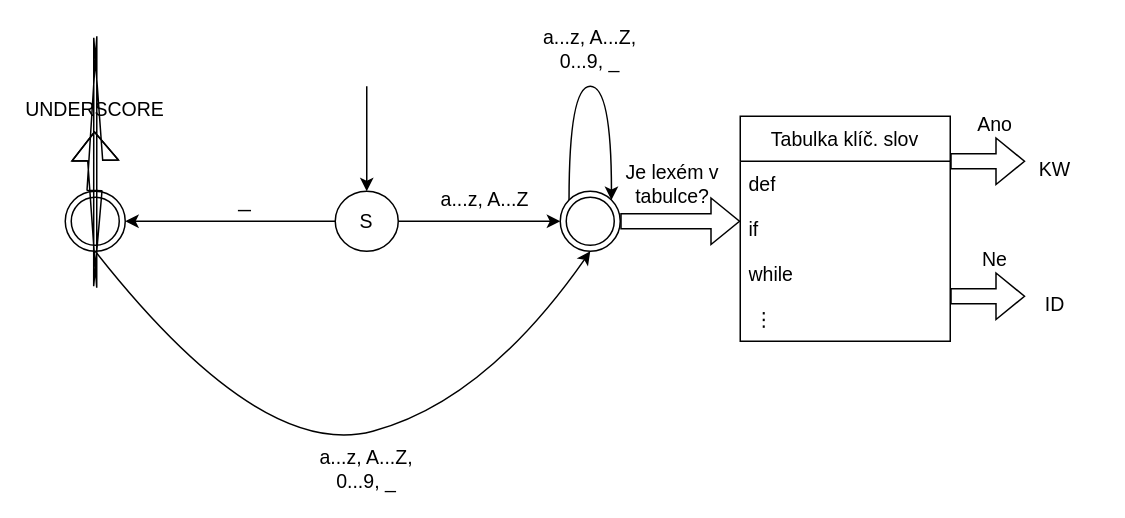
The diagram is 1125 pixels wide and 518 high, and some of its shapes have lost their labels. Here are the shapes that lost their labels. From the top down, the centre of each, then its label:
point (94, 220): f38
point (589, 220): f19
